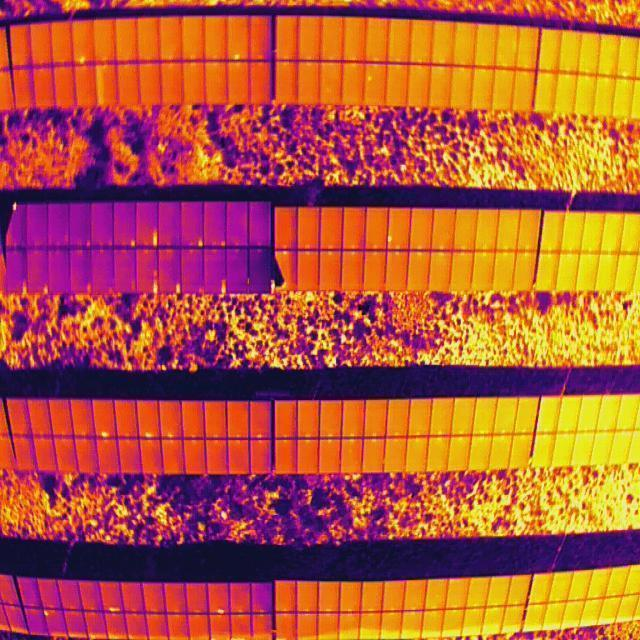diode: (96, 67, 108, 105)
hotspot: (146, 430, 155, 440), (234, 52, 242, 61), (102, 430, 111, 438), (388, 233, 395, 243), (79, 57, 87, 65)
